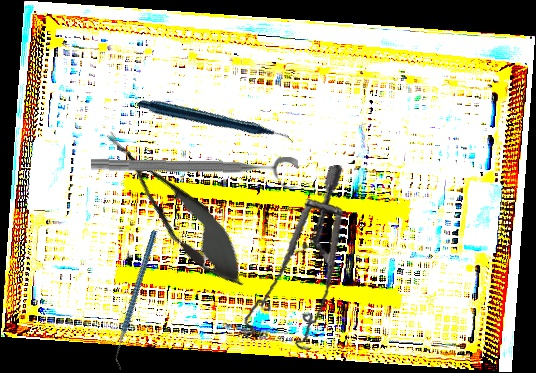Chopper: (74, 229, 200, 371)
Fixation Ring: (90, 153, 299, 191)
Handpiece: (136, 43, 294, 204)
Micro Scissor: (89, 116, 263, 301)
Speculum: (219, 164, 368, 359)
